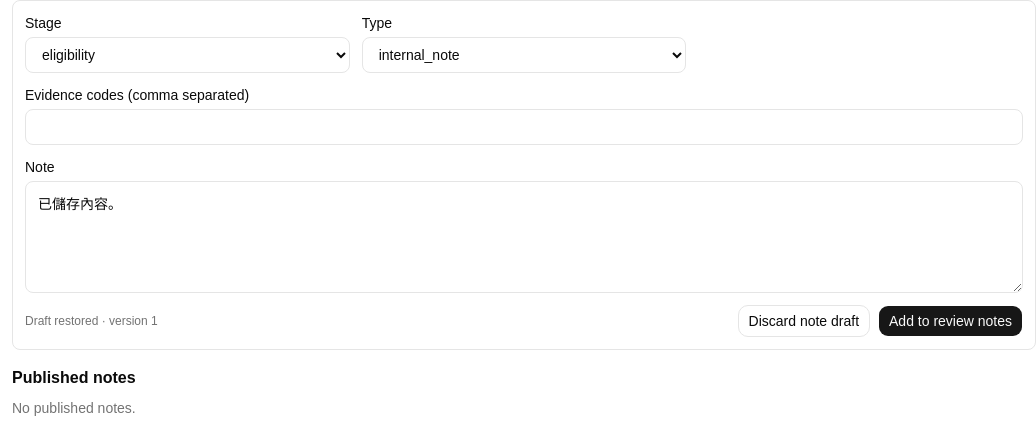
Test: ReturnNoteEditor › reloads the latest draft when an explicit publish conflicts
The image size is (1036, 433).
Expected: the text "Draft restored · version 1" is shown, [25,313,158,329]
Click the button "Add to review notes".
click(950, 321)  # box [878,305,1023,337]
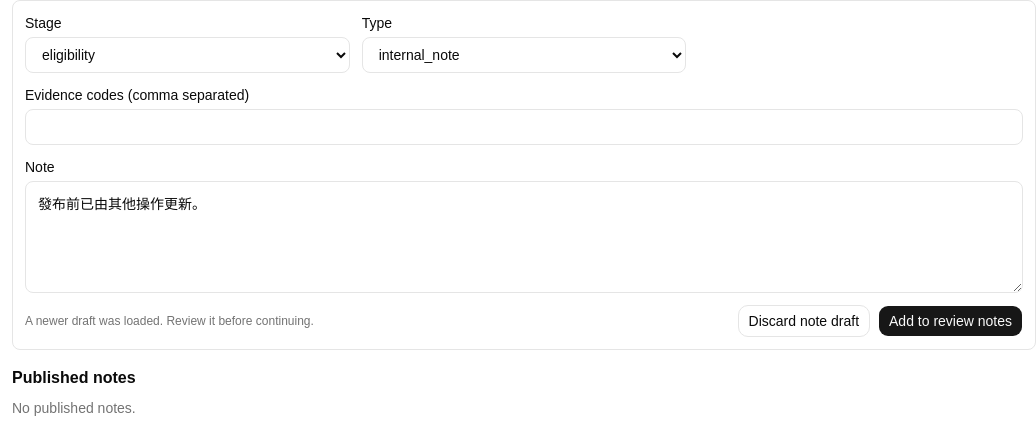
Now the text "A newer draft was loaded. Review it before continuing." is shown, box [25,313,314,329]
Now the text box labelled "Note" holds "發布前已由其他操作更新。", box [25,181,1023,293]
